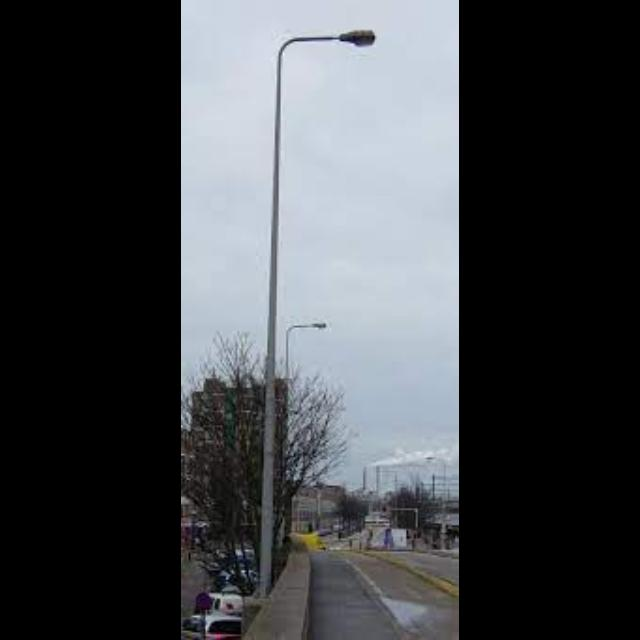Street-Lamp: (253, 28, 375, 596)
